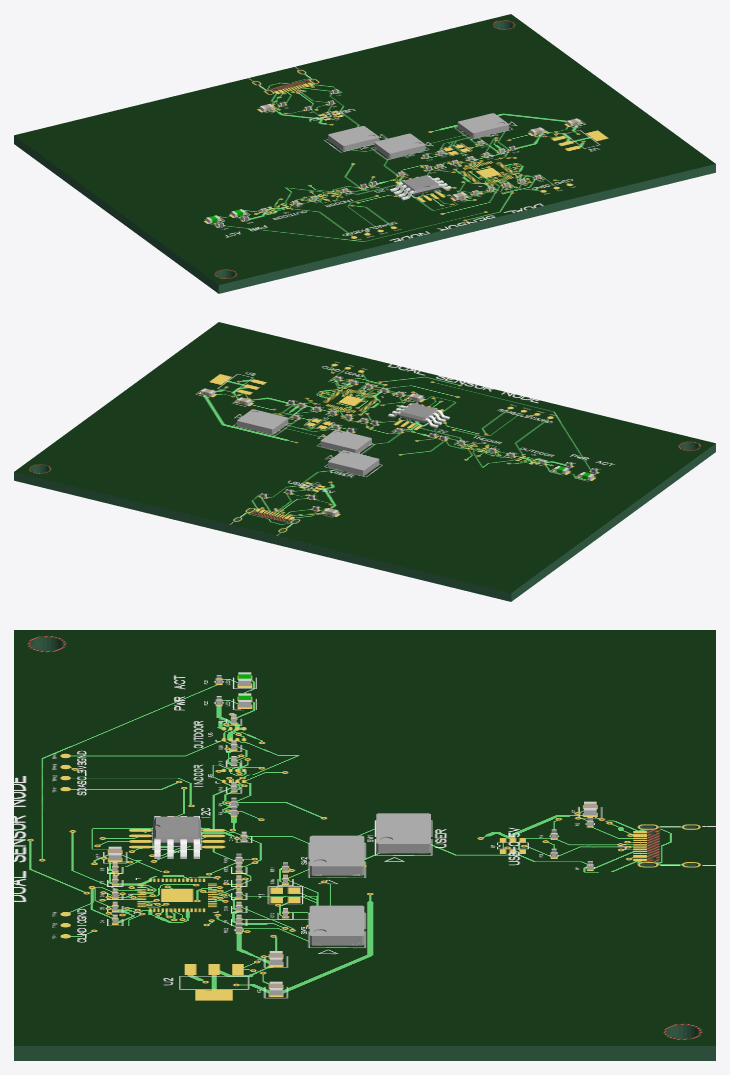
File: board.glb
3 views of the same model, one above another, from view 1: azimuth 30°, elevation 25°; view 2: azimuth 150°, elevation 25°; view 3: azimuth 270°, elevation 25° (orthographic). The views are drawn at different scales.
Visible parts, largest first — view 1: Box0, SW2, SW3, SW1, U4; view 2: Box0, SW3, SW1, SW2, U4; view 3: Box0, SW3, SW2, SW1, U4.
Boxes of the visible parts, box(x1,y1,x2,y2) form: Box0: box(14, 14, 715, 293); SW2: box(374, 133, 425, 158); SW3: box(457, 113, 508, 138); SW1: box(328, 126, 379, 151); U4: box(389, 175, 451, 200); Box0: box(14, 322, 715, 601); SW3: box(237, 409, 288, 434); SW1: box(328, 450, 379, 475); SW2: box(320, 429, 371, 453); U4: box(388, 403, 449, 427); Box0: box(14, 630, 715, 1060); SW3: box(309, 905, 364, 945); SW2: box(309, 835, 364, 875); SW1: box(376, 813, 430, 853); U4: box(153, 816, 200, 858).
Bounding box in the file's own units: 95.3 × 2.88 × 68.
10 materials, 2 textured.
